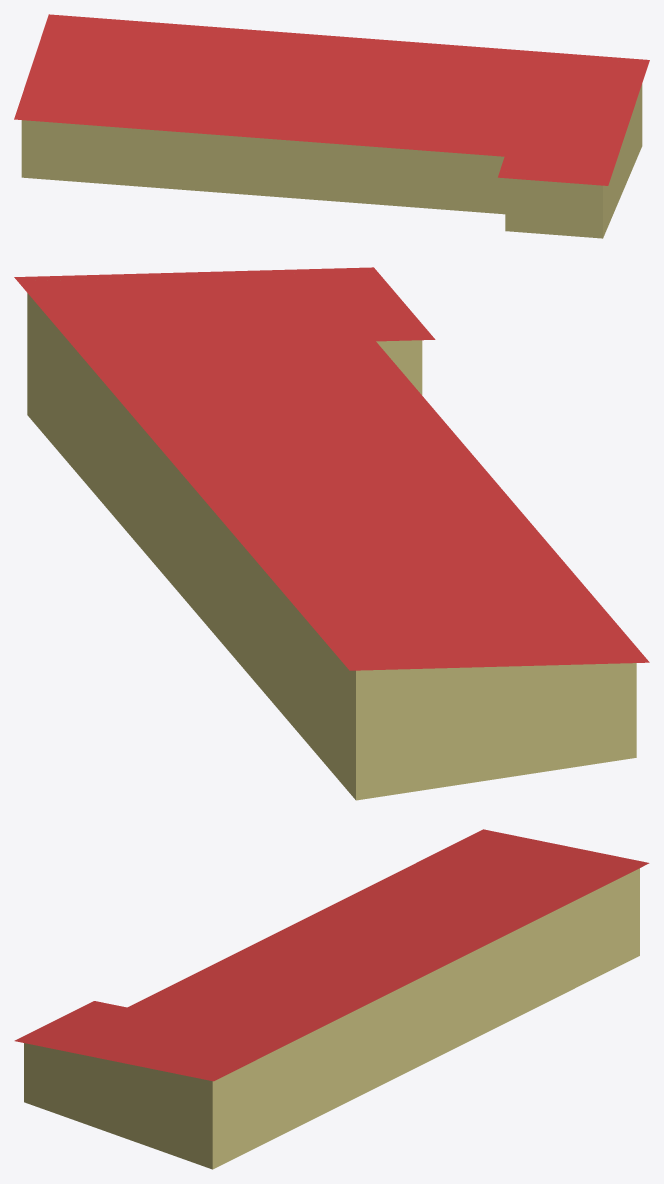
The picture shows the model from 3 angles, top to bottom: view 1: azimuth 30°, elevation 25°; view 2: azimuth 150°, elevation 25°; view 3: azimuth 270°, elevation 25°; orthographic projection. The views are drawn at different scales.
Size of the model in its own units: 68.62 by 66.4 by 10.66.
